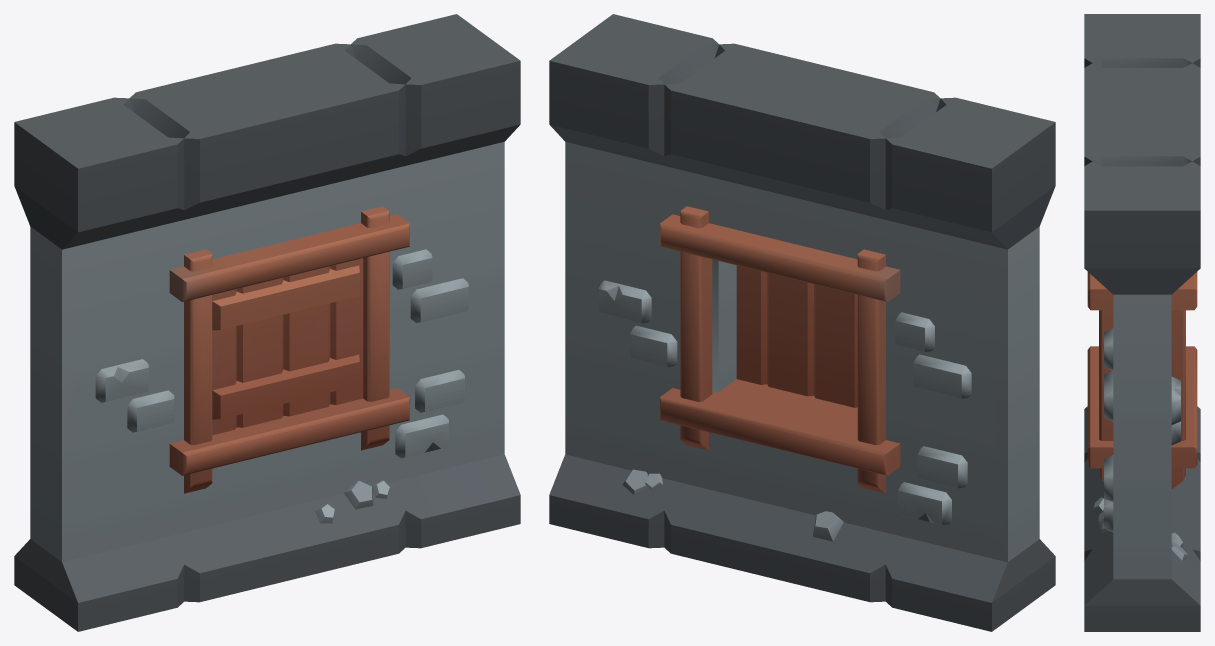
The model's file is wall_window_closed.glb.
3 renders of one model, left to right at view 1: azimuth 30°, elevation 25°; view 2: azimuth 150°, elevation 25°; view 3: azimuth 270°, elevation 25°, orthographic. The views are drawn at different scales.
Visible parts, largest first — view 1: wall_window_closed; view 2: wall_window_closed; view 3: wall_window_closed.
Part boxes in pixels (x1=…): wall_window_closed: x1=14, y1=14, x2=520, y2=631; wall_window_closed: x1=549, y1=14, x2=1055, y2=631; wall_window_closed: x1=1084, y1=14, x2=1200, y2=631.
Size of the model in its own units: 4 by 4 by 1.
1 material, 1 textured.
